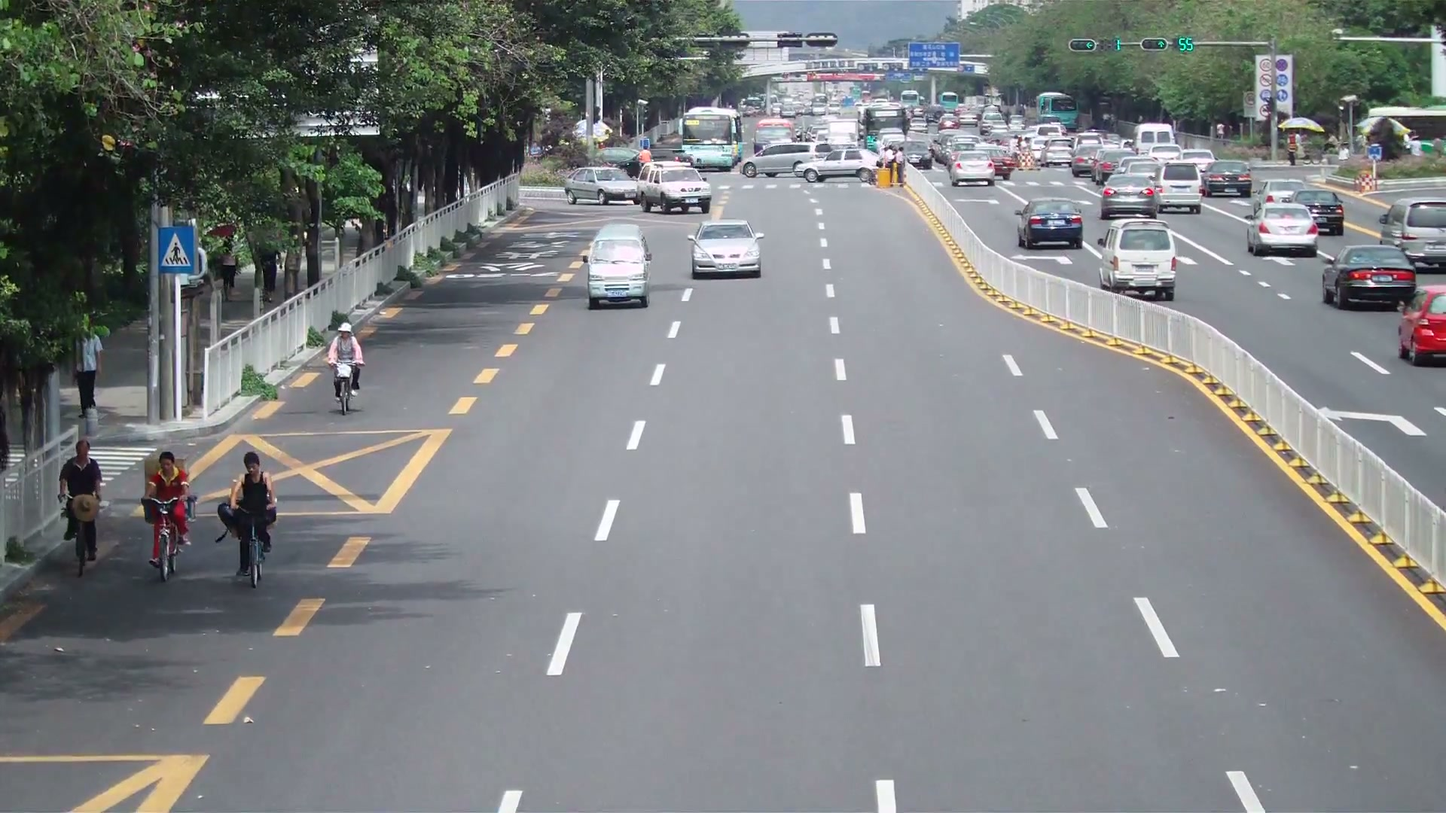bus: (680, 105, 741, 172)
car: (1320, 243, 1418, 311), (1098, 222, 1177, 300), (585, 222, 650, 307), (1380, 196, 1445, 273), (688, 219, 764, 278), (1014, 194, 1085, 250), (1245, 203, 1320, 256), (1100, 162, 1164, 220), (1397, 288, 1445, 364), (643, 164, 712, 214), (563, 166, 636, 206), (1290, 188, 1347, 235), (1159, 172, 1203, 215)
pedestrian: (58, 437, 105, 572), (227, 452, 276, 578), (142, 448, 194, 565), (324, 319, 366, 408), (75, 318, 104, 416)
truck: (1381, 198, 1445, 273), (680, 105, 743, 172), (1135, 123, 1181, 156)
